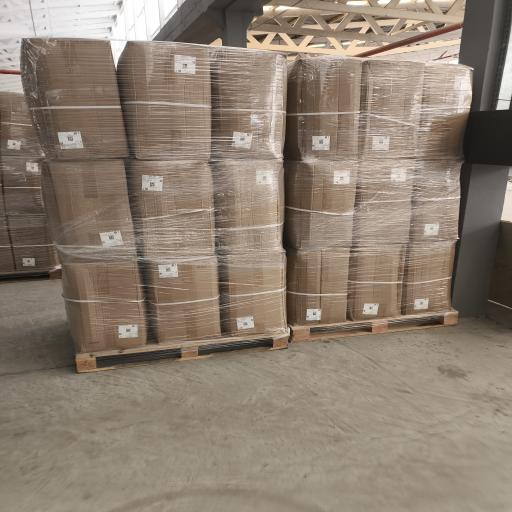pallet: (76, 334, 288, 372), (290, 310, 458, 342), (0, 267, 61, 282)
